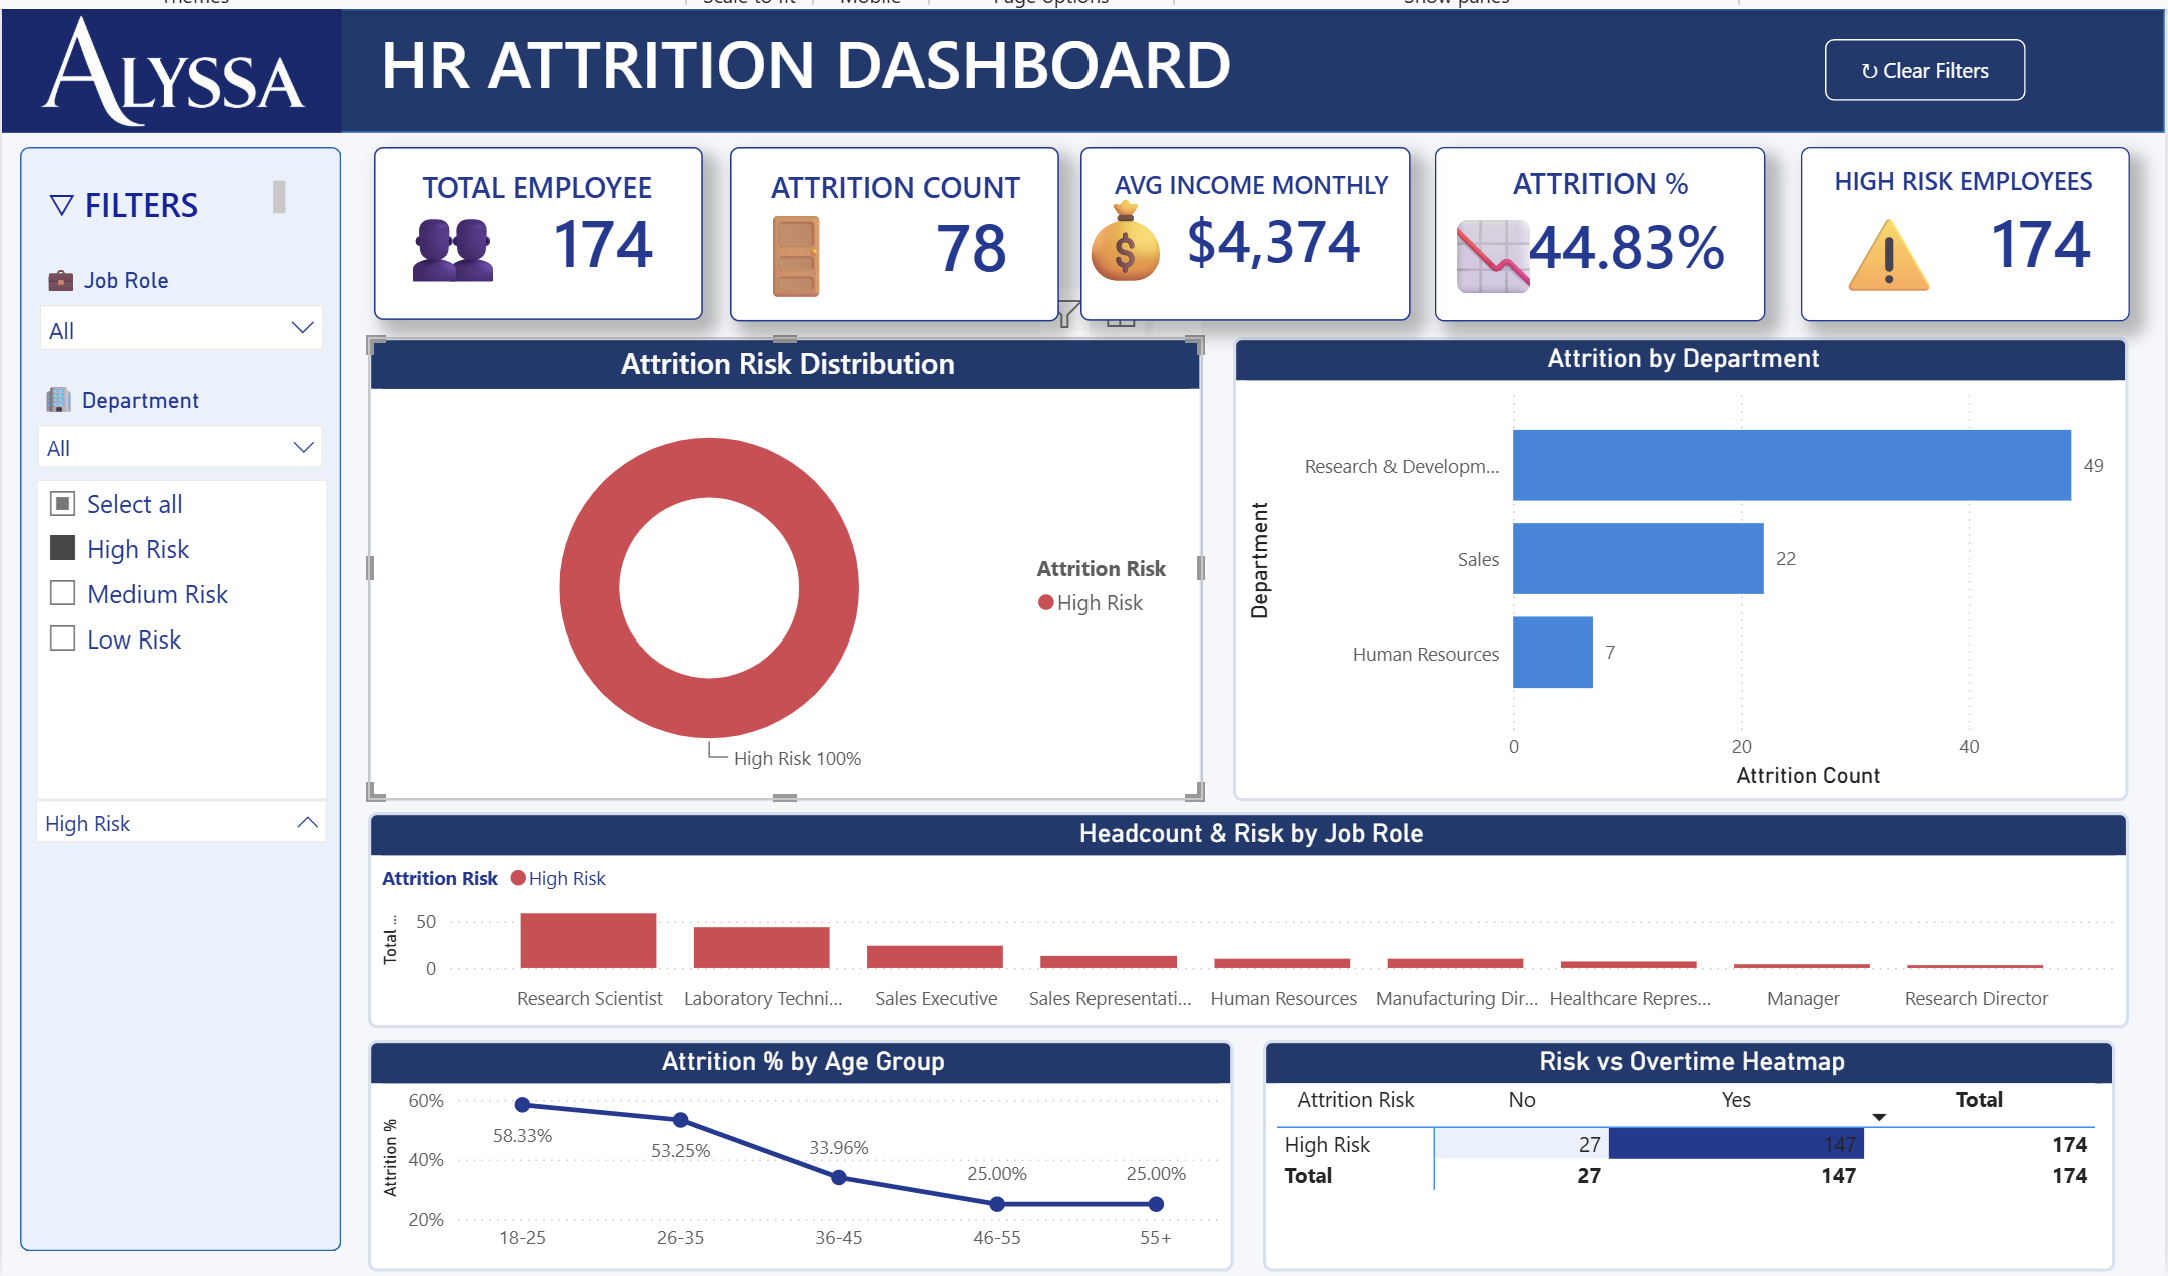

The dashboard page shown, as its layout file describes it:
{"tool":"powerbi","page":{"name":"Page 1","canvas":[1400,820],"ordinal":0},"visuals":[{"type":"shape","box":[0,0,1400,80],"z":0},{"type":"textbox","box":[240,0,706.7,80],"z":1000},{"type":"image","box":[0,0,220,80],"z":2000},{"type":"shape","box":[11.8,90,208.2,714.5],"z":3000},{"type":"actionButton","box":[1180,20,130,40],"z":4000},{"type":"slicer","fields":{"Values":["HR_Data.JobRole"]},"box":[13.8,157.5,203.8,66.2],"z":5000},{"type":"slicer","fields":{"Values":["HR_Data.Department"]},"box":[12.5,236.2,205,71.2],"z":6000},{"type":"slicer","fields":{"Values":["HR_Data.Gender"]},"box":[11.2,315,206.2,71.2],"z":7000},{"type":"slicer","fields":{"Values":["HR_Data.OverTime"]},"box":[11.1,397.8,206.7,72.2],"z":8000},{"type":"textbox","box":[25,106.2,163.8,35],"z":9000},{"type":"donutChart","title":"Attrition Risk Distribution","fields":{"Category":["HR_Data.Attrition Risk"],"Y":["HR_Data.Total Employees"]},"box":[237.5,212.1,540,300],"z":10000},{"type":"clusteredBarChart","title":"Attrition by Department","fields":{"Category":["HR_Data.Department"],"Y":["HR_Data.Attrition Count"]},"box":[796.3,212.1,580,300],"z":11000},{"type":"columnChart","title":"Headcount & Risk by Job Role","fields":{"Category":["HR_Data.JobRole"],"Y":["HR_Data.Total Employees"],"Series":["HR_Data.Attrition Risk"]},"box":[237.5,520,1140,140],"z":12000},{"type":"lineChart","title":"Attrition % by Age Group","fields":{"Category":["HR_Data.Age Group"],"Y":["HR_Data.Attrition %"]},"box":[237.1,666.8,560,150],"z":13000},{"type":"pivotTable","title":"Risk vs Overtime Heatmap","fields":{"Rows":["HR_Data.Attrition Risk"],"Columns":["HR_Data.OverTime"],"Values":["HR_Data.Total Employees"]},"box":[816.7,666.7,552.2,150],"z":14000},{"type":"cardVisual","fields":{"Data":["HR_Data.High Risk Employees (Display)"]},"box":[1164,90,213,113],"z":15000},{"type":"cardVisual","fields":{"Data":["HR_Data.Attrition % (Display)"]},"box":[928,90,214,113],"z":16000},{"type":"cardVisual","fields":{"Data":["HR_Data.Attrition Count (Display)"]},"box":[471.4,90,212.9,112.9],"z":17000},{"type":"cardVisual","title":"TOTAL EMPLOYEES","fields":{"Data":["HR_Data.Avg Monthly Income (Display)"]},"box":[698.6,90,213.3,112.5],"z":18000},{"type":"textbox","box":[471.4,100,90,82.9],"z":19000},{"type":"textbox","box":[472.7,116.4,90,90],"z":20000},{"type":"textbox","box":[927.5,120,80,82.5],"z":21000},{"type":"textbox","box":[1180,113.3,90,88.9],"z":22000},{"type":"cardVisual","title":"hhh","fields":{"Data":["HR_Data.Total Employees (Display)"]},"box":[240.4,90,213,112],"z":23000},{"type":"textbox","box":[251.4,105.7,81.4,82.9],"z":24000},{"type":"textbox","box":[685,106.7,100,110],"z":25000},{"type":"textbox","box":[255.7,97.1,182.9,41.4],"z":26000},{"type":"textbox","box":[428.2,97.3,300,38.2],"z":27000},{"type":"textbox","box":[701.7,96.7,213.3,38.3],"z":28000},{"type":"textbox","box":[1171.2,95,197.5,36.2],"z":29000},{"type":"textbox","box":[946.2,95,178.8,36.2],"z":30000},{"type":"slicer","fields":{"Values":["HR_Data.Attrition Risk"]},"box":[11.1,477.8,208.9,70],"z":31000}]}

Visuals, with their boxes in screenshot pixels (x1, y1, x2, y2):
shape: 0,0,2167,127
textbox: 369,0,1488,127
image: 0,0,337,127
shape: 7,142,337,1274
actionButton: 1857,32,2063,95
slicer - HR_Data.JobRole: 11,249,333,354
slicer - HR_Data.Department: 9,374,333,487
slicer - HR_Data.Gender: 6,499,333,611
slicer - HR_Data.OverTime: 6,630,334,744
textbox: 28,168,288,224
"Attrition Risk Distribution" donutChart: 365,336,1220,811
"Attrition by Department" clusteredBarChart: 1249,336,2167,811
"Headcount & Risk by Job Role" columnChart: 365,823,2167,1045
"Attrition % by Age Group" lineChart: 364,1056,1251,1275
"Risk vs Overtime Heatmap" pivotTable: 1282,1056,2156,1275
cardVisual - HR_Data.High Risk Employees (Display): 1832,142,2167,321
cardVisual - HR_Data.Attrition % (Display): 1458,142,1797,321
cardVisual - HR_Data.Attrition Count (Display): 735,142,1072,321
"TOTAL EMPLOYEES" cardVisual: 1095,142,1433,321
textbox: 735,158,878,290
textbox: 737,184,880,327
textbox: 1457,190,1584,321
textbox: 1857,179,1999,320
"hhh" cardVisual: 369,142,707,320
textbox: 387,167,516,299
textbox: 1073,169,1232,343
textbox: 394,154,683,219
textbox: 667,154,1142,215
textbox: 1100,153,1437,214
textbox: 1843,150,2156,208
textbox: 1487,150,1770,208
slicer - HR_Data.Attrition Risk: 6,756,337,867
